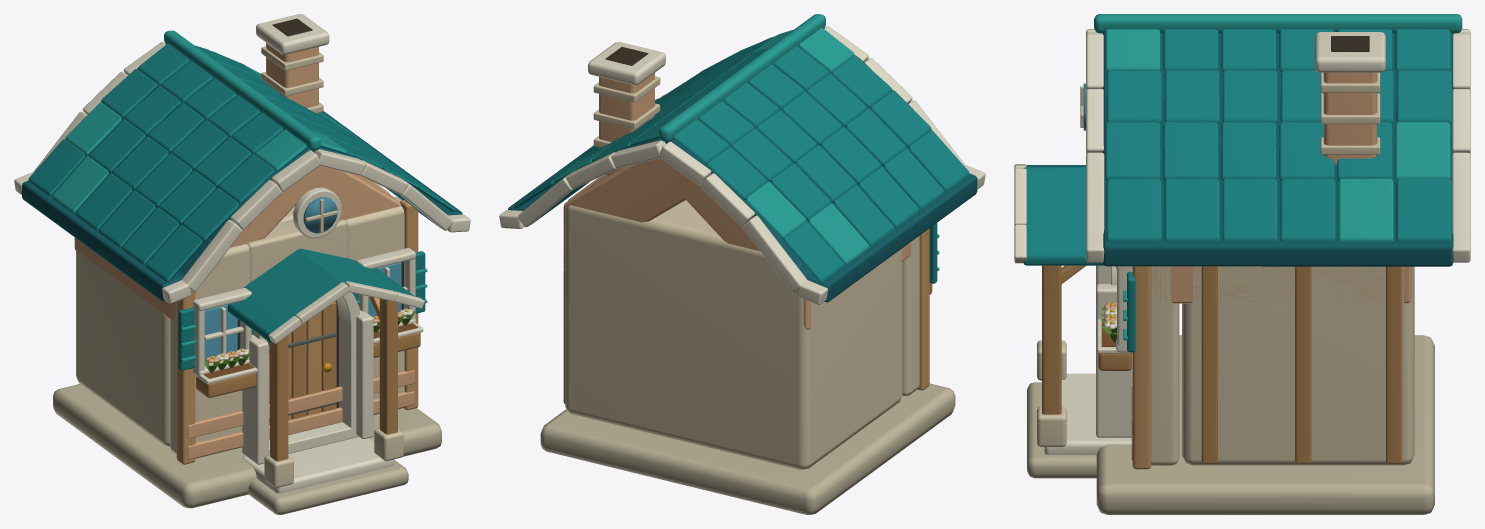
File: farmhouse.glb
3 views of the same model, side by side, from view 1: azimuth 30°, elevation 25°; view 2: azimuth 150°, elevation 25°; view 3: azimuth 270°, elevation 25° (orthographic). The views are drawn at different scales.
Parts seen in each view (by area): view 1: farmhouse_roof, farmhouse_walls, farmhouse_porch, farmhouse_windows, farmhouse_entry-frame, farmhouse_chimney, farmhouse_door, farmhouse_windows_glass; view 2: farmhouse_walls, farmhouse_roof, farmhouse_chimney, farmhouse_windows; view 3: farmhouse_roof, farmhouse_walls, farmhouse_porch, farmhouse_chimney, farmhouse_entry-frame, farmhouse_windows.
Part boxes in pixels (x1=…): farmhouse_roof: x1=14, y1=30, x2=470, y2=303; farmhouse_walls: x1=53, y1=165, x2=441, y2=508; farmhouse_porch: x1=227, y1=248, x2=424, y2=514; farmhouse_windows: x1=178, y1=187, x2=427, y2=397; farmhouse_entry-frame: x1=242, y1=292, x2=373, y2=464; farmhouse_chimney: x1=256, y1=14, x2=329, y2=114; farmhouse_door: x1=269, y1=301, x2=336, y2=425; farmhouse_windows_glass: x1=204, y1=262, x2=401, y2=358; farmhouse_walls: x1=540, y1=158, x2=955, y2=514; farmhouse_roof: x1=499, y1=14, x2=985, y2=304; farmhouse_chimney: x1=588, y1=42, x2=665, y2=175; farmhouse_windows: x1=929, y1=223, x2=939, y2=294; farmhouse_roof: x1=1086, y1=14, x2=1470, y2=266; farmhouse_walls: x1=1096, y1=266, x2=1434, y2=514; farmhouse_porch: x1=1014, y1=164, x2=1131, y2=478; farmhouse_chimney: x1=1315, y1=32, x2=1385, y2=164; farmhouse_entry-frame: x1=1096, y1=265, x2=1132, y2=437; farmhouse_windows: x1=1080, y1=83, x2=1135, y2=370.
Bounding box in the file's own units: 3.48 × 3.95 × 3.66.
